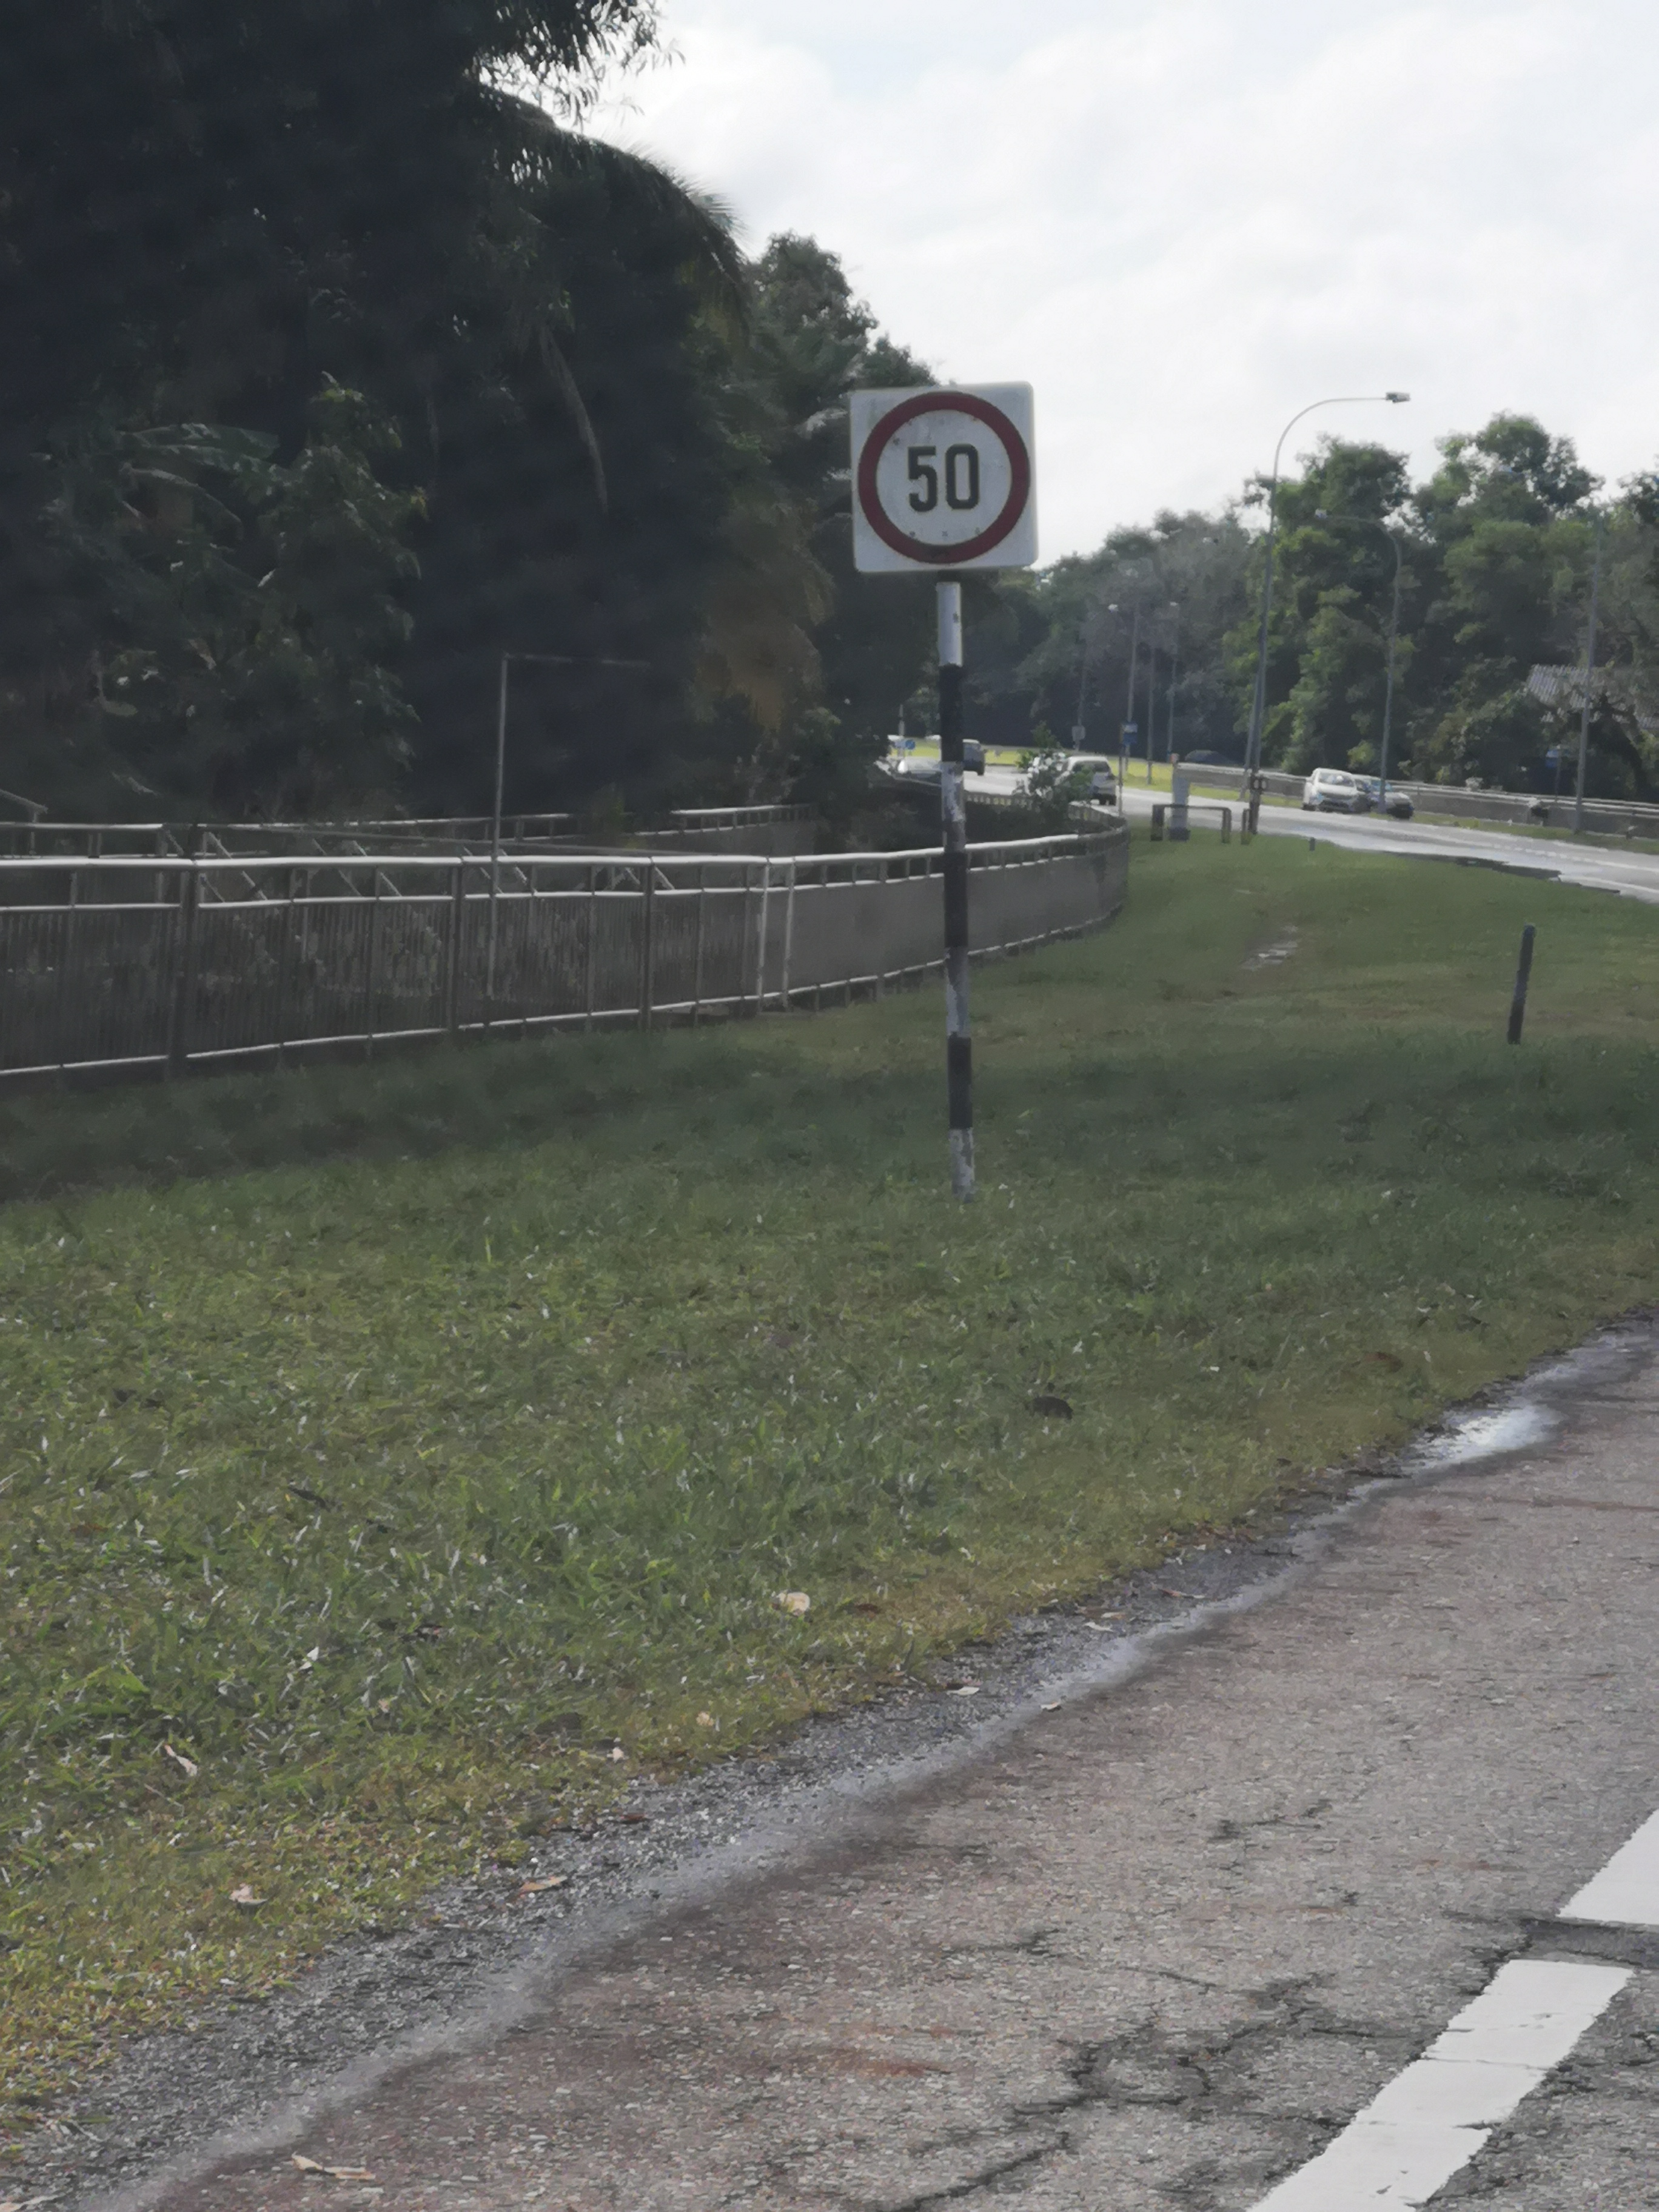speed limit 50: (847, 383, 1053, 580)
